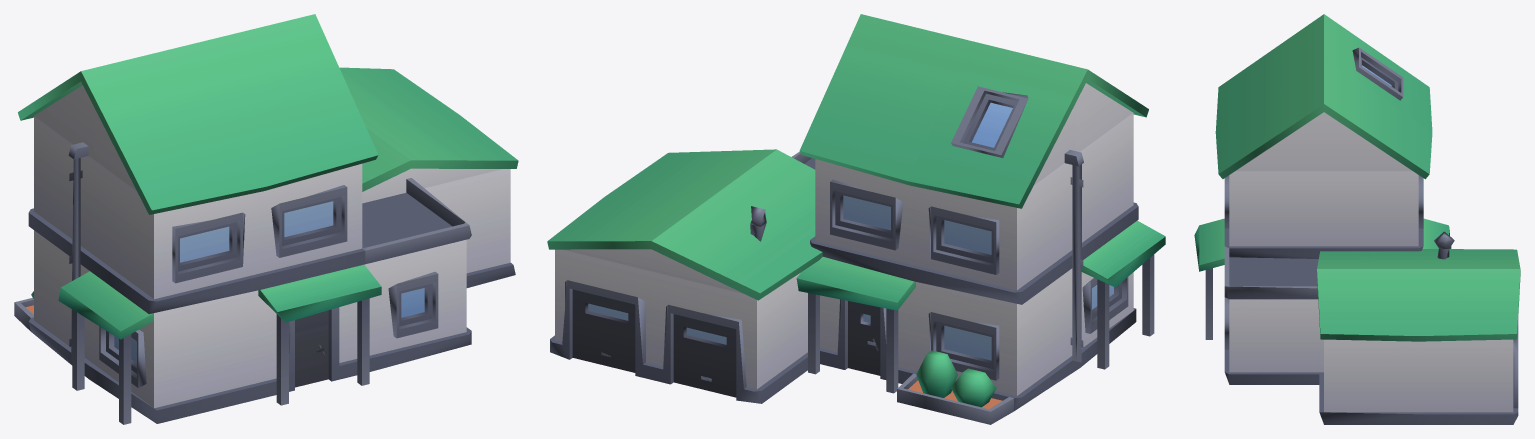
File: 067_city-kit-suburban_building-type-n_card.glb
3 views of the same model, side by side, from view 1: azimuth 30°, elevation 25°; view 2: azimuth 150°, elevation 25°; view 3: azimuth 270°, elevation 25° (orthographic). The views are drawn at different scales.
Parts seen in each view (by area): view 1: building-type-n; view 2: building-type-n; view 3: building-type-n.
Boxes of the visible parts, x1,y1,x2,y2 form: building-type-n: (14, 14, 518, 424); building-type-n: (547, 14, 1165, 424); building-type-n: (1194, 14, 1520, 424).
Size of the model in its own units: 1.78 by 1.14 by 1.38.
Materials: 1 (1 with a texture image).
